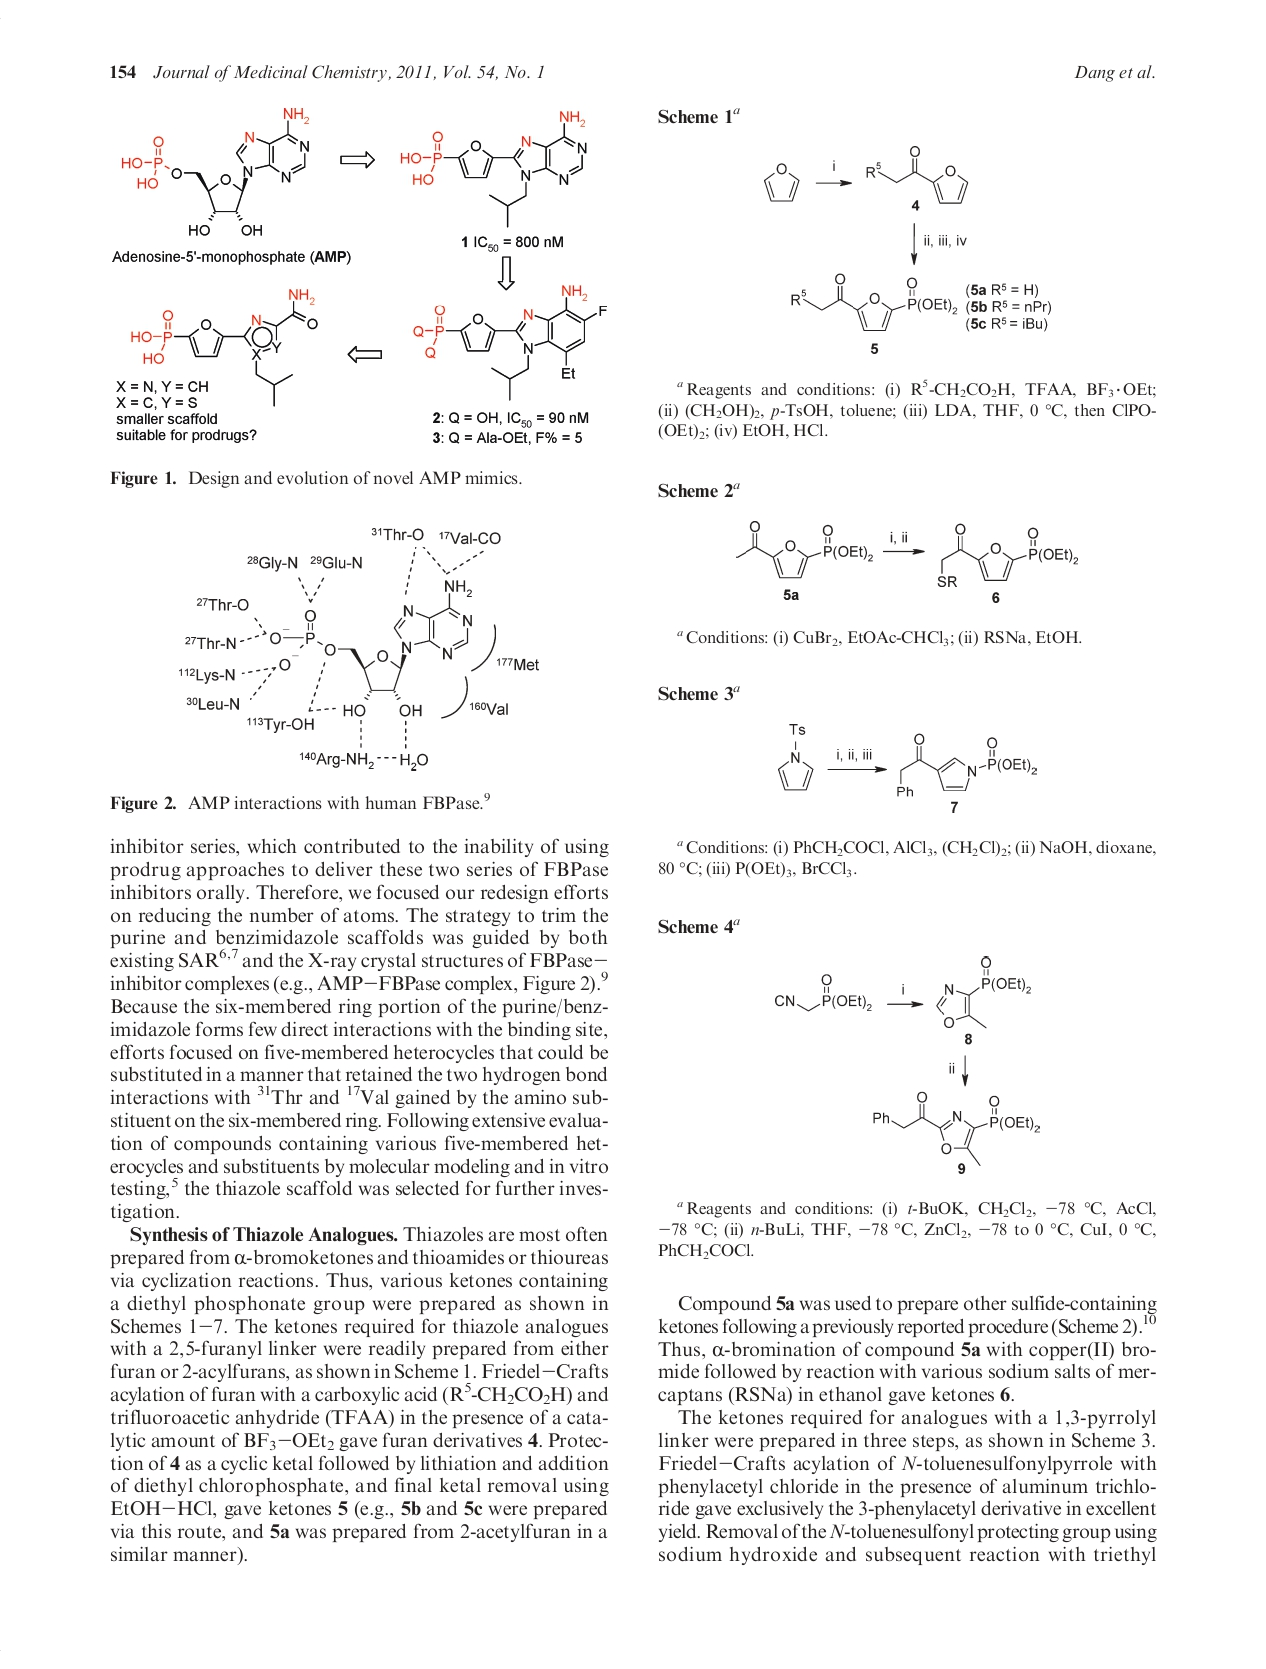exist_molecular: (269, 575, 477, 722), (116, 104, 316, 239), (410, 283, 609, 406), (126, 287, 316, 408), (398, 110, 590, 229), (866, 1087, 1047, 1168), (785, 273, 963, 335), (934, 519, 1084, 592), (891, 731, 1041, 797), (735, 515, 876, 581), (930, 951, 1035, 1035), (863, 137, 979, 207), (769, 969, 875, 1017), (773, 719, 817, 797), (758, 156, 805, 207)
